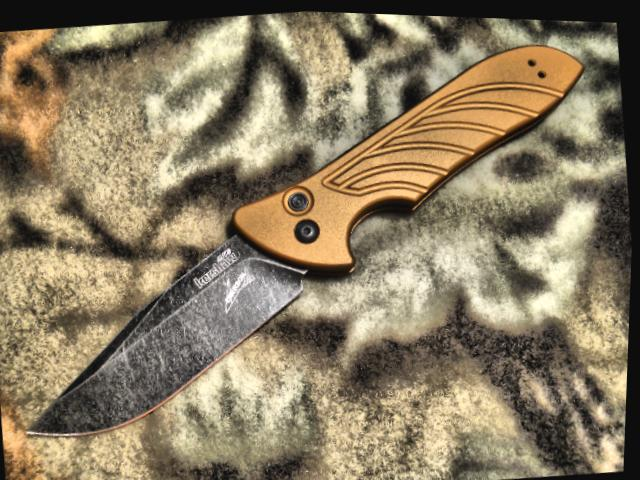knife: (2, 199, 335, 452)
